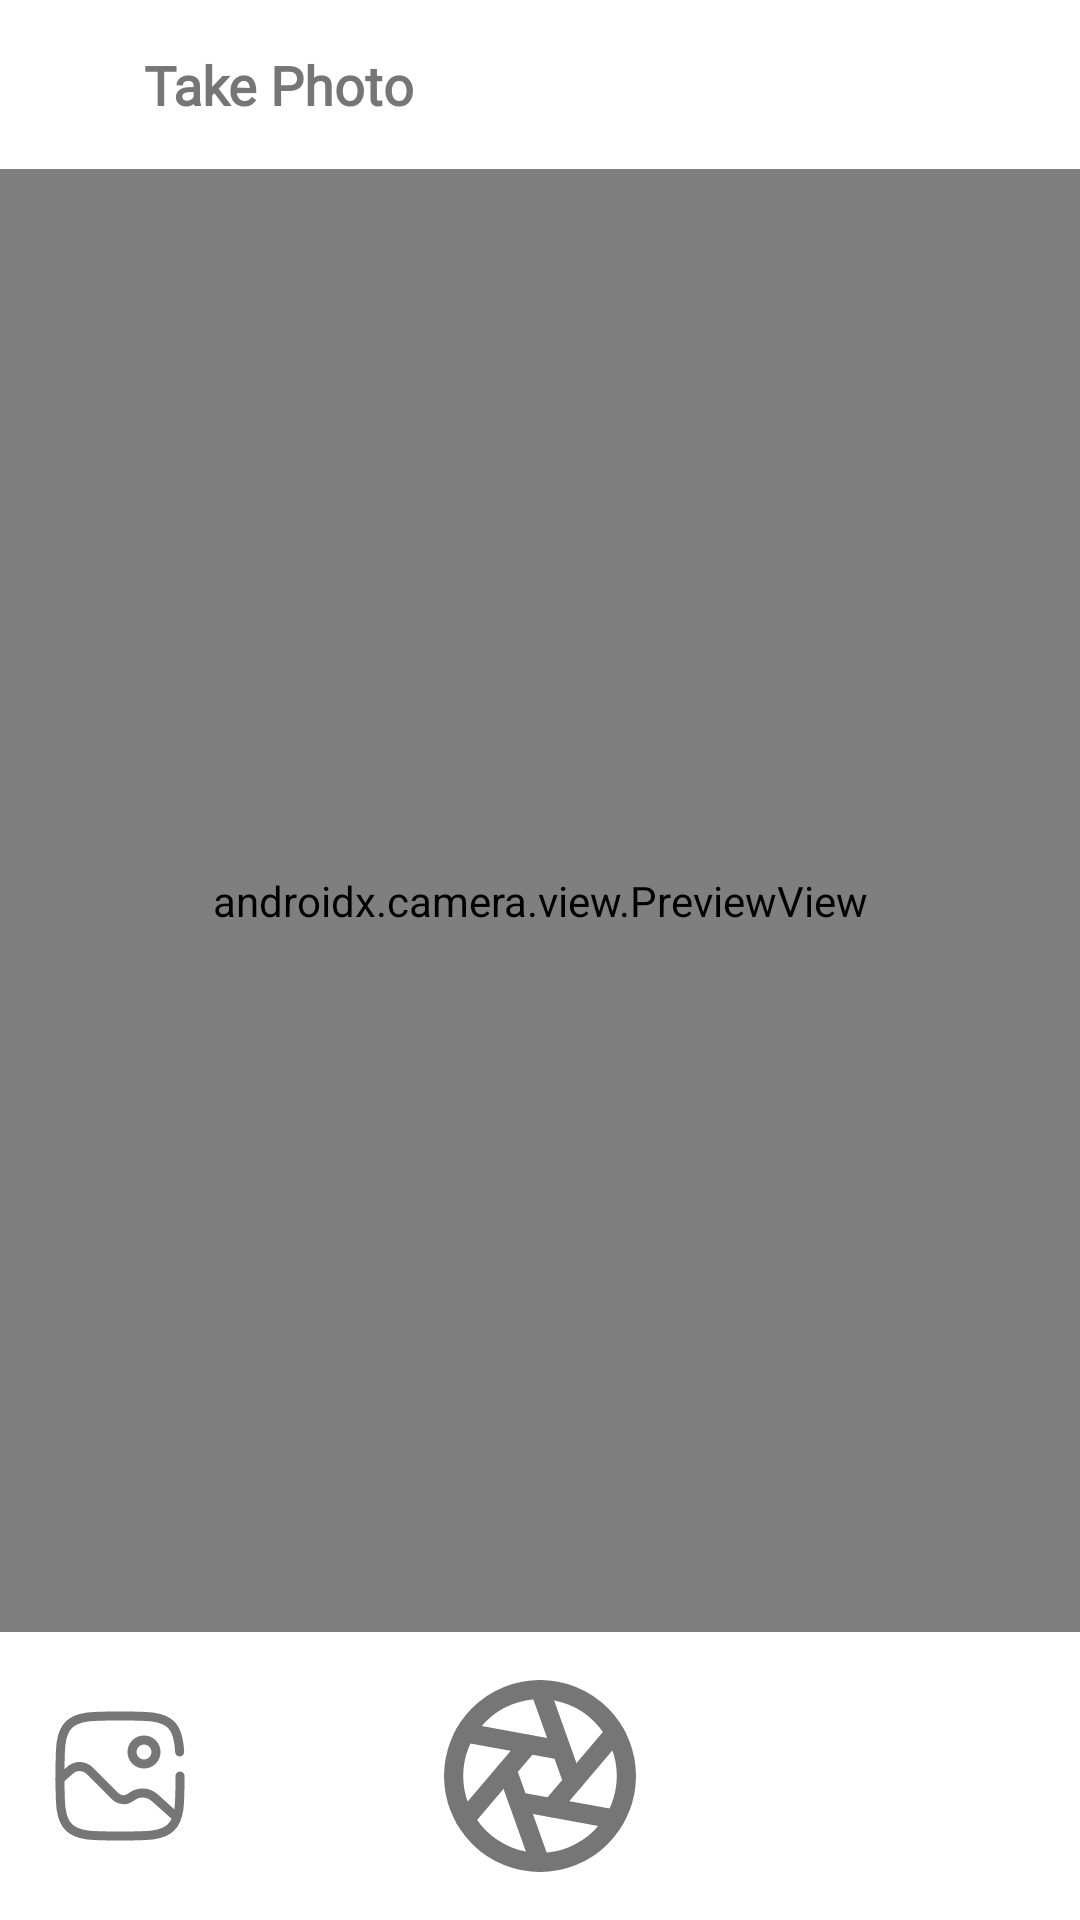

Named icons in this screenshot (1080w x 1920h) and their bounding boxes, (x1, y1, x2, y2):
capture: (444, 1680, 636, 1872)
gallery: (55, 1711, 185, 1841)
